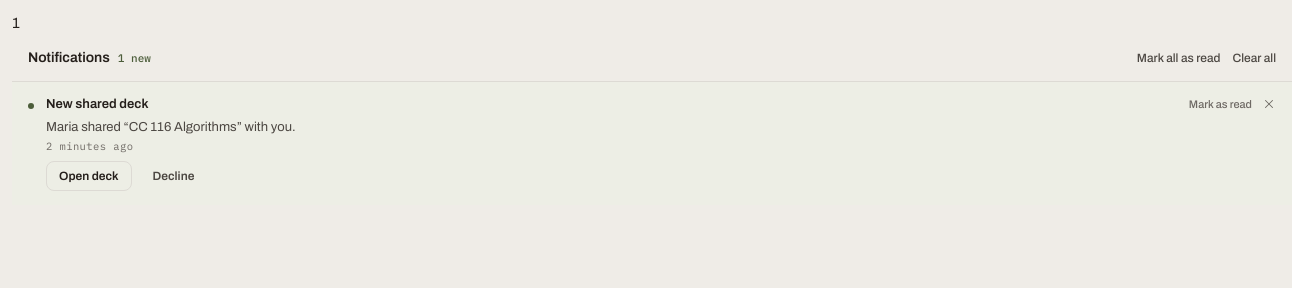
Test: clearing › holds a clear made offline, keeps it cleared, and sends it on reconnecting
Expected: the text "Maria shared “CC 116 Algorithms” with you." is shown, [46,120,296,134]
What coordinates should you click on to do the following:
click the button named "Dismiss: New shared deck"
I would click on:
 (1269, 104)
Its box is [1258,94,1280,116].
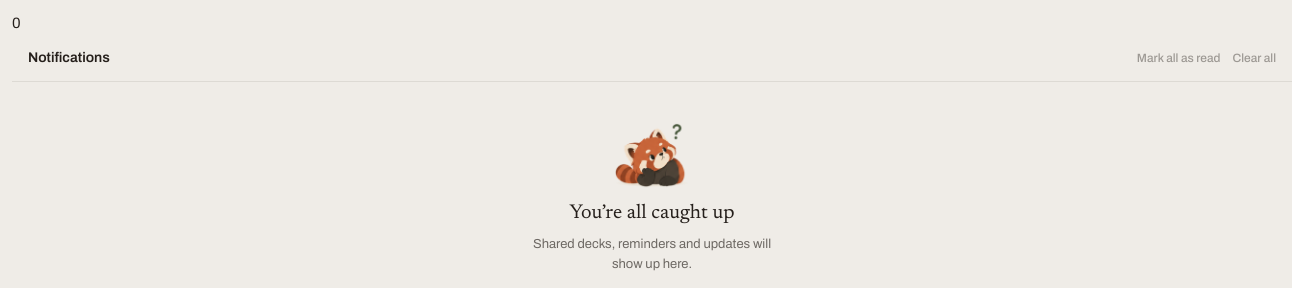
Now the text "Maria shared “CC 116 Algorithms” with you." is gone
